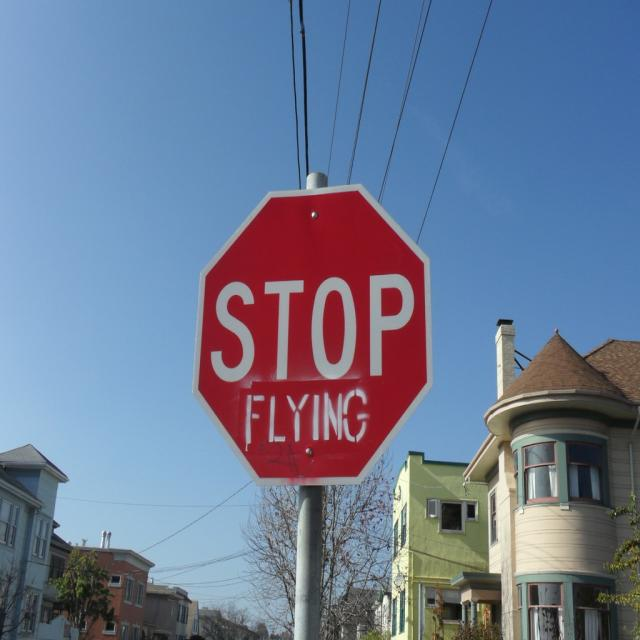Stop-sign: (190, 181, 434, 487)
